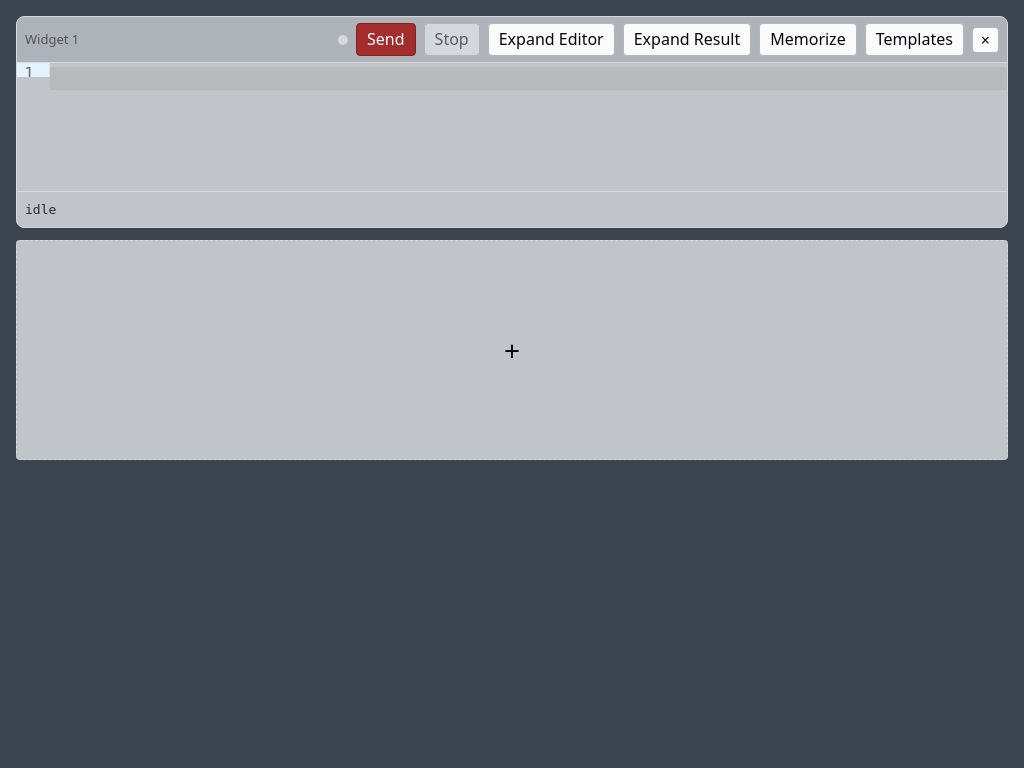
Test: Grid › adds a widget when the add control is clicked
This screenshot has width=1024, height=768.
Click the button named "Add widget" at (512, 350), box [16,240,1008,460]
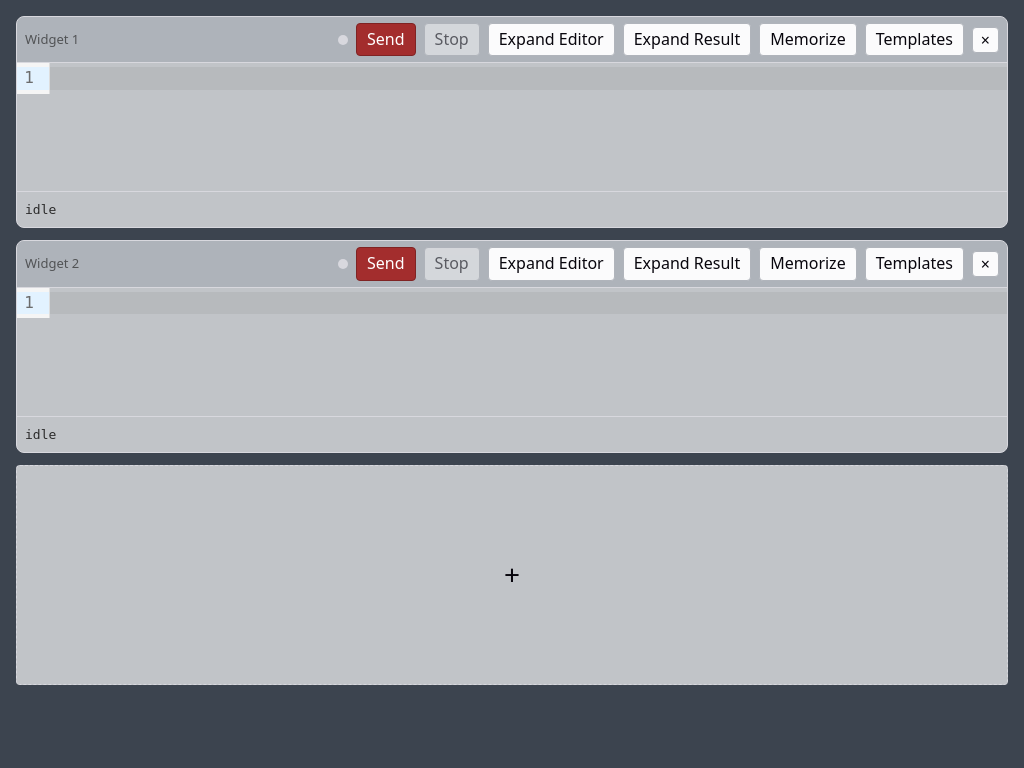
Check: the text "Widget 1" is shown 2 times, box [25,28,79,51]; [25,252,79,276]
